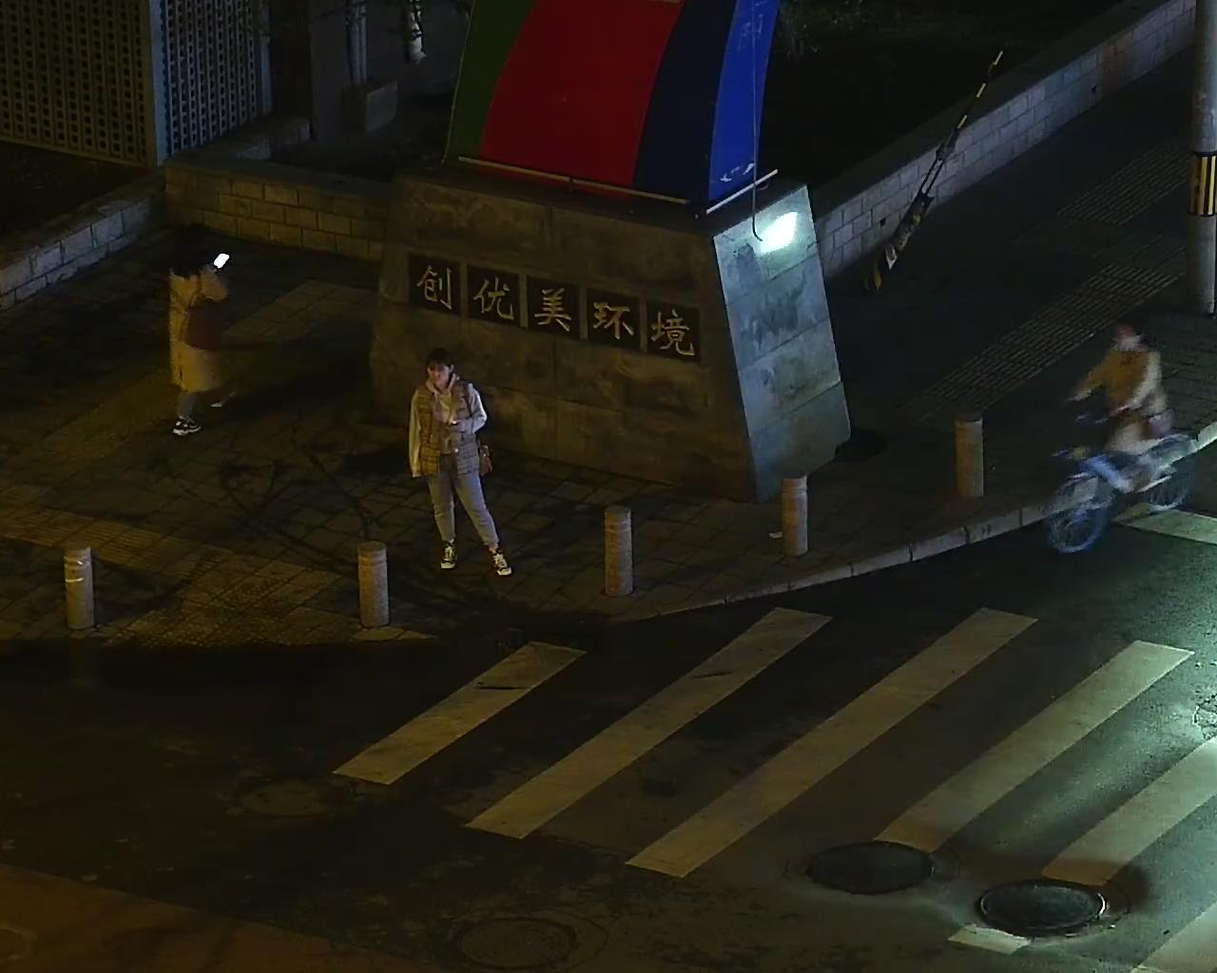person: (404, 346, 512, 581), (1058, 314, 1178, 520), (163, 218, 238, 448)
